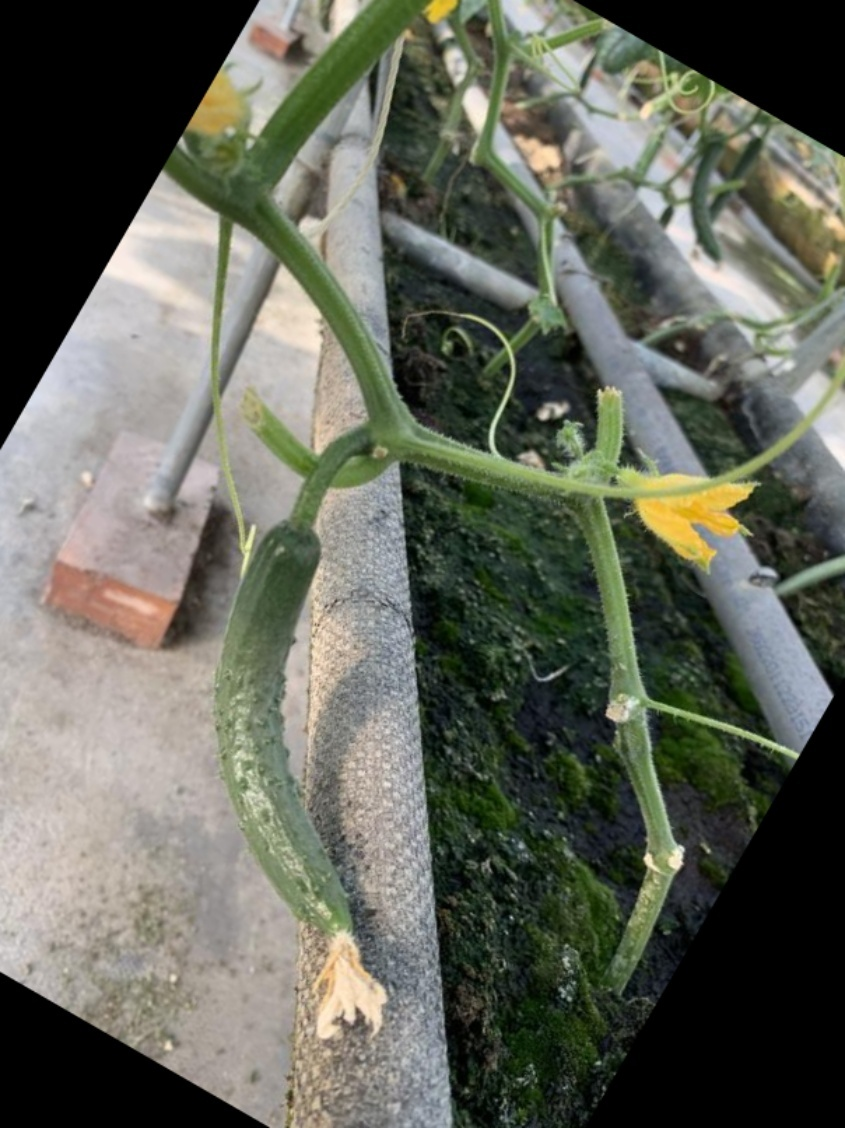bud: (632, 460, 762, 577)
